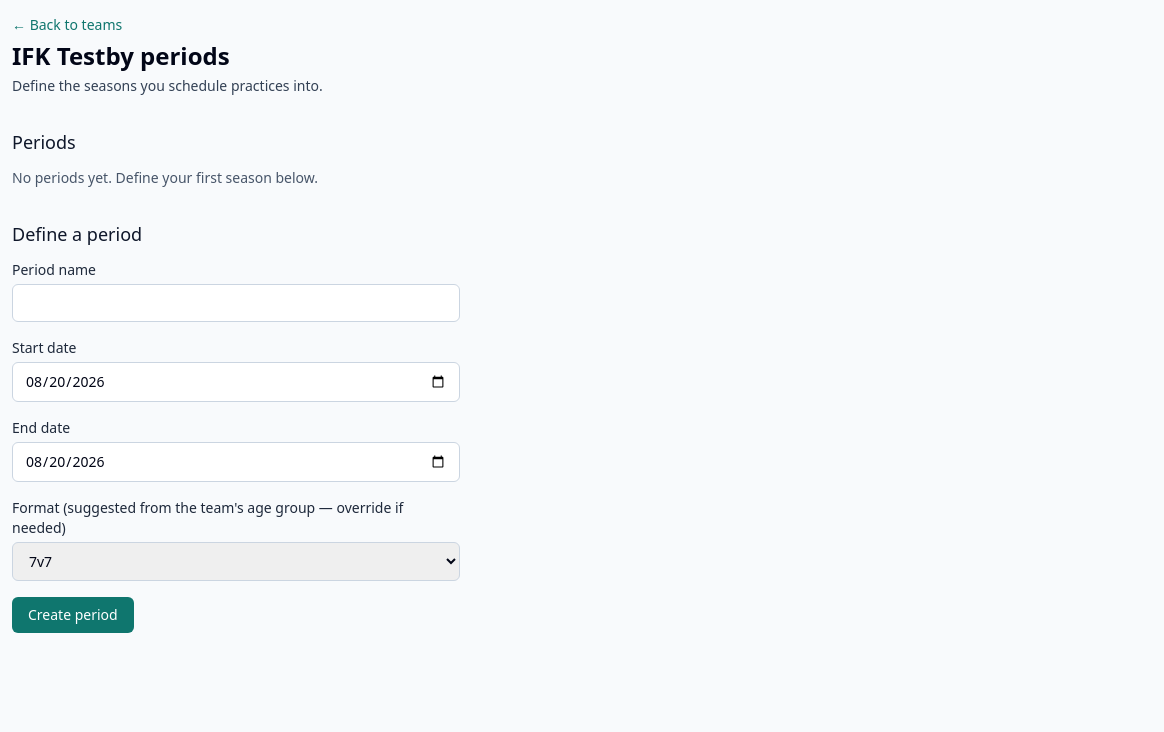
Test case: PeriodsPage › creates a period and reloads the list
The width and height of the screenshot is (1164, 732).
Expected: the text "No periods yet. Define your first season below." is shown, [12,168,318,187]
Type "Spring term" into the field labelled "Period name" at (236, 303), box [12,284,460,322]
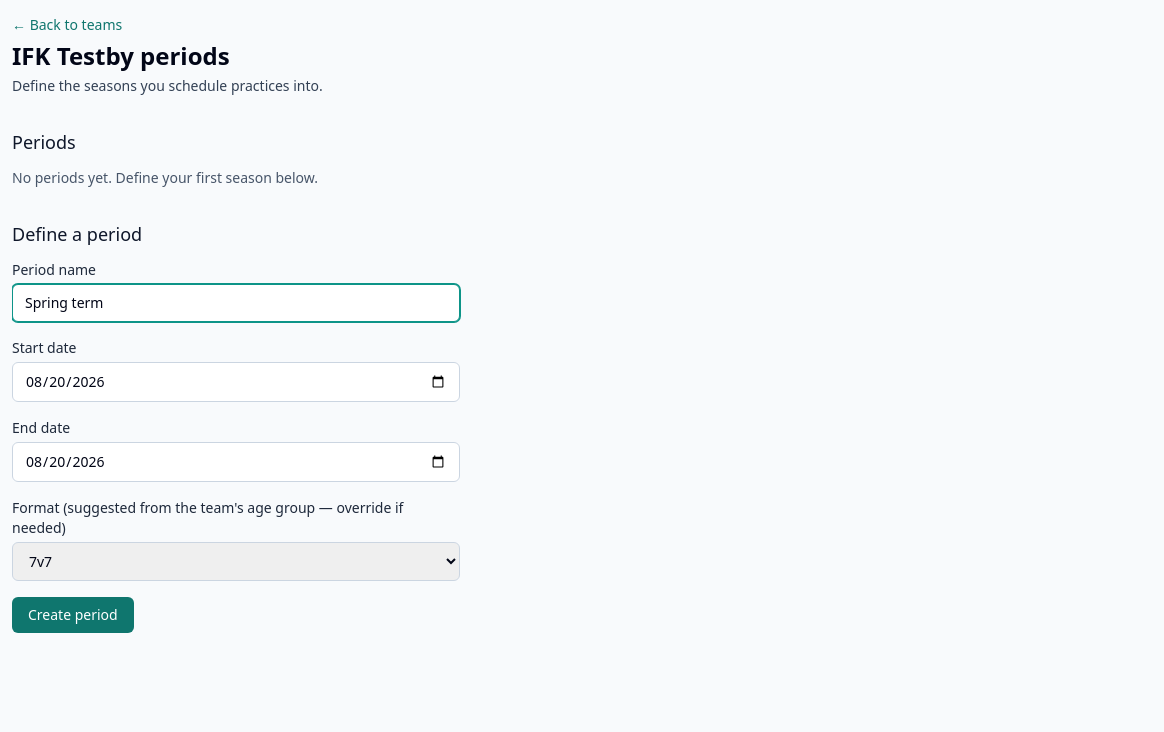
Type "2026-01-01" into the date field labelled "Start date" at (236, 382), box [12,362,460,402]
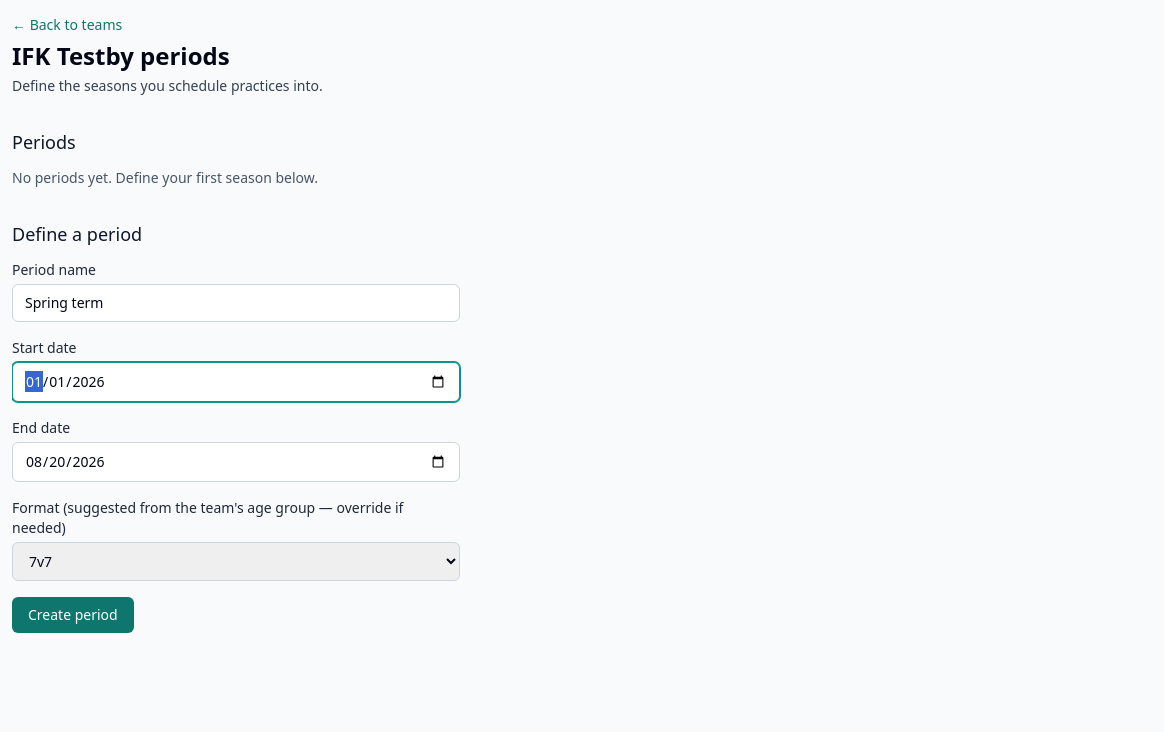
Type "2026-06-01" into the date field labelled "End date" at (236, 462), box [12,442,460,482]
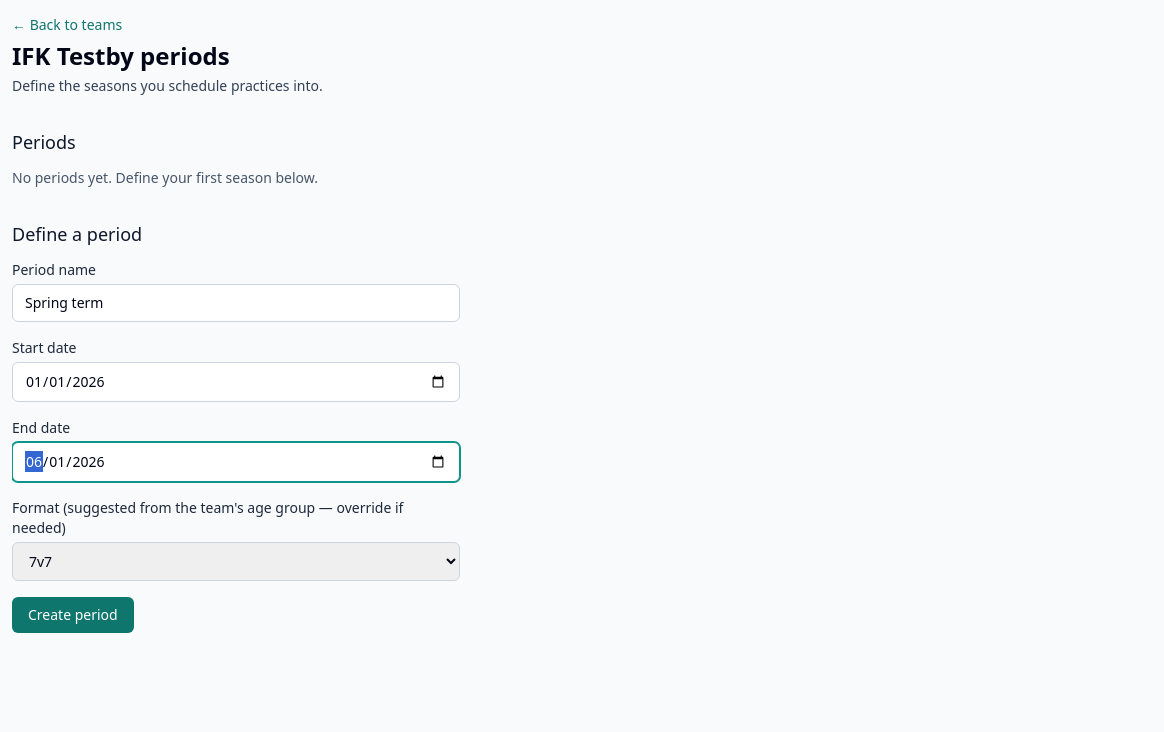
Click the button "Create period" at (73, 615), box [12,597,134,633]
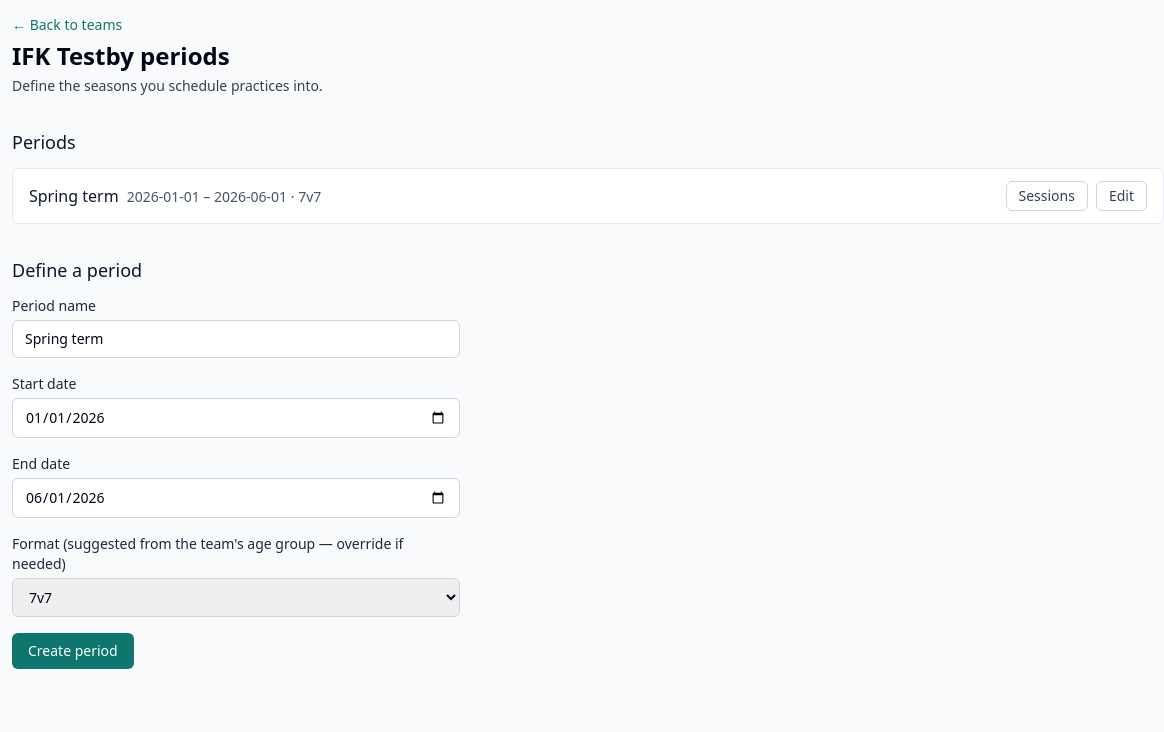
Now the text "Spring term" is shown, box [29,185,119,207]
